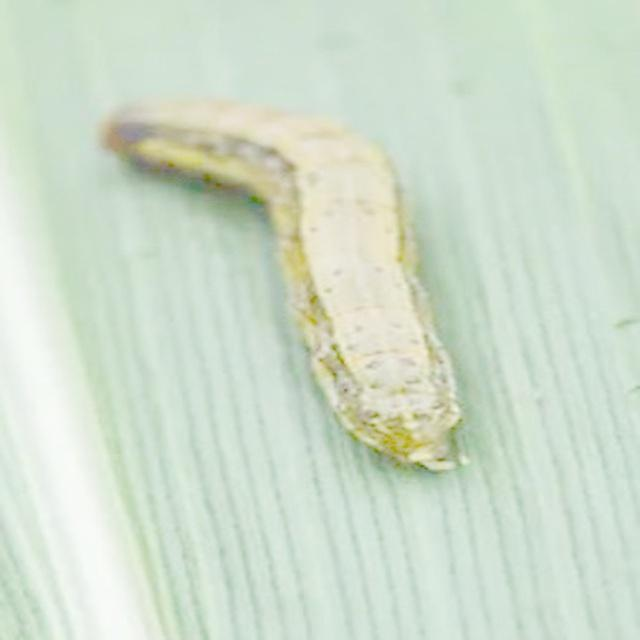gusano_cogollero: (90, 89, 472, 483)
